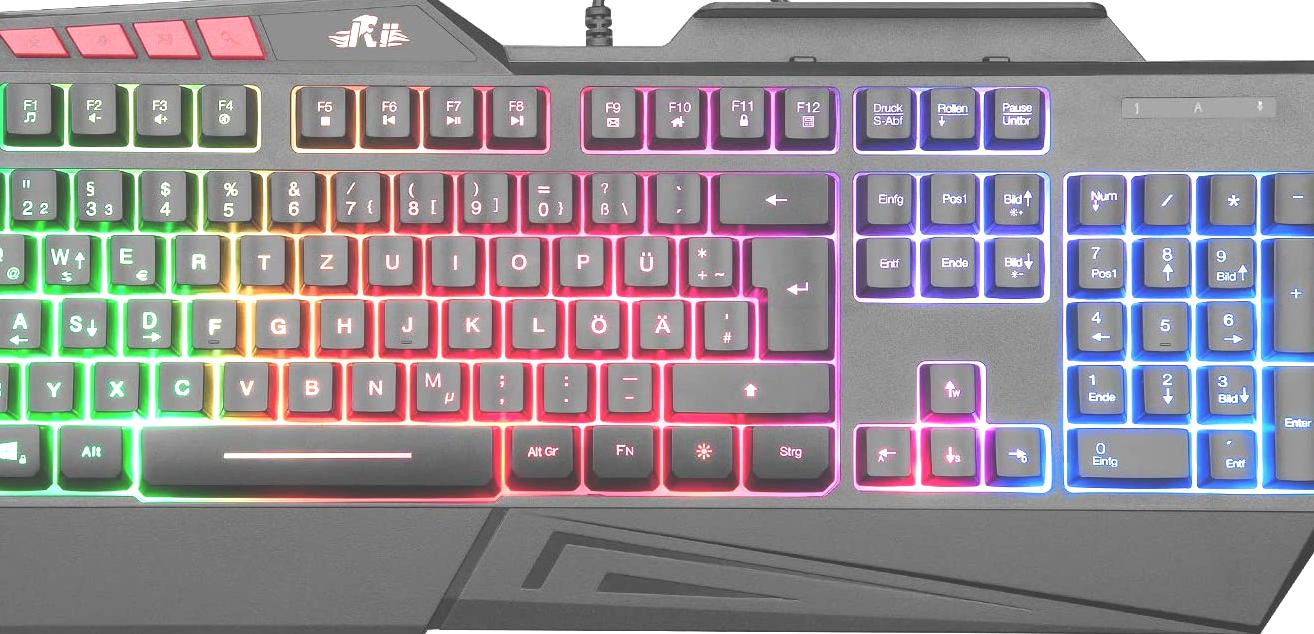0: (521, 166, 572, 223)
1: (1, 165, 26, 219)
2: (6, 164, 58, 220)
3: (69, 164, 124, 222)
4: (137, 165, 188, 221)
5: (202, 165, 254, 221)
6: (265, 166, 318, 221)
7: (329, 166, 381, 222)
8: (391, 167, 445, 224)
9: (456, 166, 509, 222)
a: (1, 292, 41, 348)
accent: (650, 166, 700, 221)
ae: (633, 292, 685, 348)
alt-left: (54, 418, 122, 480)
altgr-right: (505, 418, 574, 477)
b: (282, 355, 333, 409)
c: (153, 355, 204, 410)
caret: (1, 164, 27, 219)
comma: (473, 355, 523, 409)
d: (121, 291, 171, 347)
del: (713, 168, 828, 223)
e: (103, 228, 155, 284)
enter: (745, 229, 829, 352)
f: (187, 292, 236, 347)
g: (249, 292, 300, 347)
h: (315, 292, 364, 347)
hash: (698, 293, 748, 349)
i: (426, 229, 476, 283)
j: (378, 292, 428, 347)
k: (442, 291, 492, 347)
keyboard: (1, 36, 1314, 539)
l: (506, 292, 556, 347)
less: (1, 355, 26, 411)
m: (407, 355, 460, 410)
minus: (601, 356, 651, 410)
n: (346, 355, 397, 409)
o: (488, 230, 541, 284)
oe: (569, 293, 620, 348)
p: (554, 230, 604, 284)
plus: (680, 230, 732, 285)
point: (538, 356, 587, 410)
q: (1, 228, 28, 284)
r: (170, 228, 221, 283)
s: (55, 290, 106, 347)
shift-left: (1, 356, 34, 410)
shift-lock: (1, 292, 52, 348)
shift-right: (667, 356, 829, 411)
space: (499, 489, 1314, 624), (1, 498, 512, 634), (135, 415, 496, 489)
ss: (583, 167, 635, 222)
strg-left: (1, 418, 43, 479)
strg-right: (744, 419, 831, 479)
t: (235, 228, 285, 282)
tab: (1, 228, 44, 284)
u: (363, 229, 414, 283)
ue: (618, 230, 668, 284)
v: (218, 354, 268, 409)
w: (40, 227, 90, 284)
x: (90, 355, 138, 410)
y: (24, 355, 74, 411)
z: (298, 228, 348, 283)
